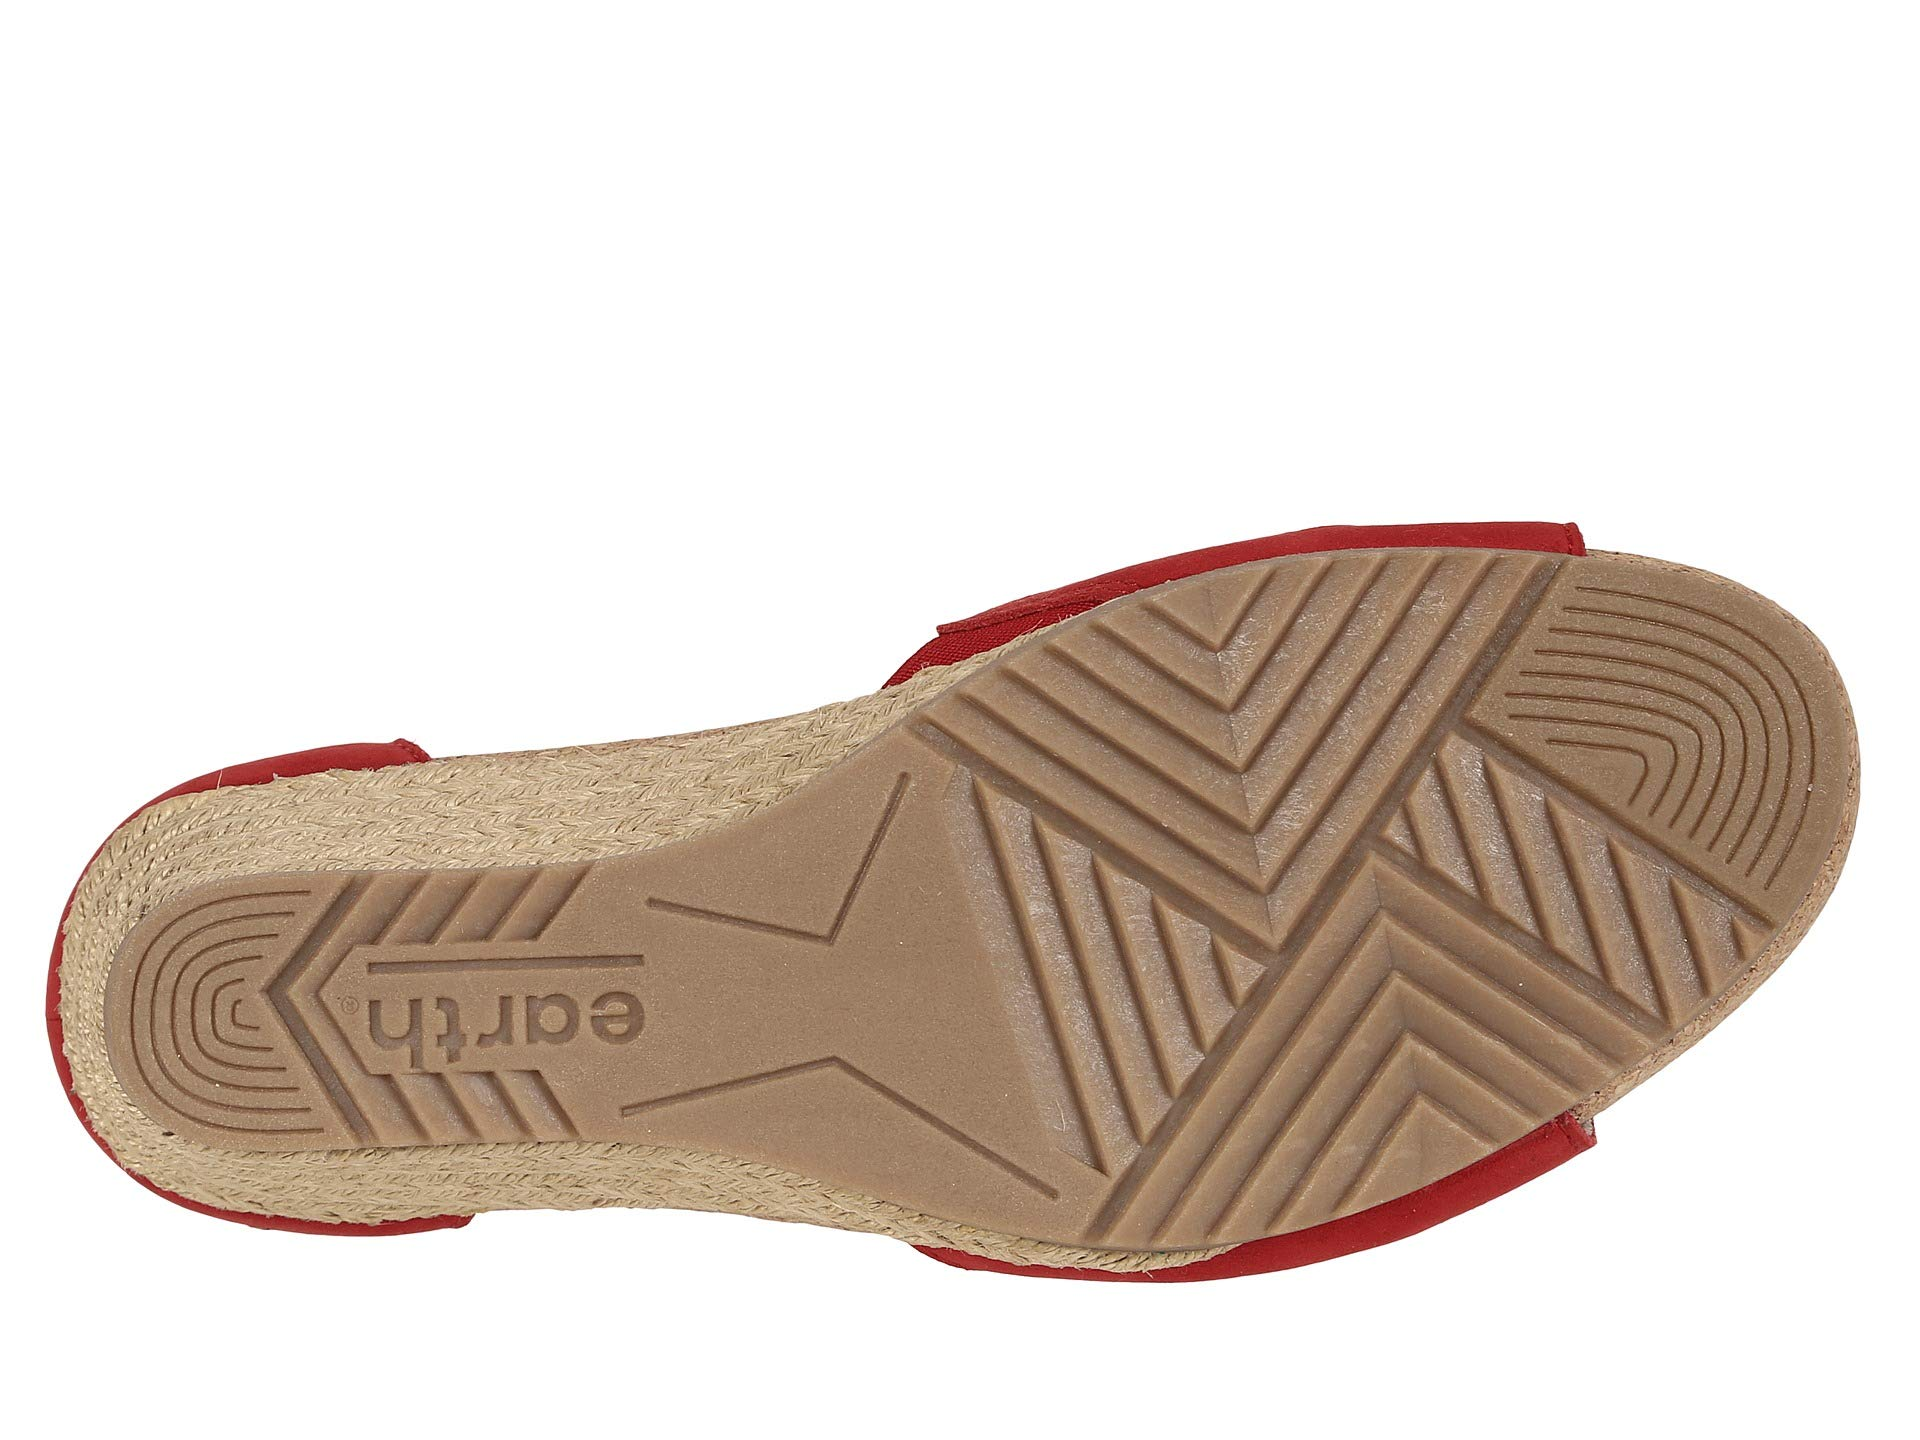chevron: (1302, 918, 1541, 1148), (1135, 610, 1356, 836), (181, 911, 361, 1118), (1606, 626, 1781, 821), (711, 836, 898, 1007), (757, 1012, 924, 1178)
circle: (361, 898, 656, 1148)
line: (361, 898, 656, 1148), (980, 888, 1181, 1101), (1442, 782, 1565, 903)
quad: (181, 911, 361, 1118)
text: (361, 898, 656, 1148)
